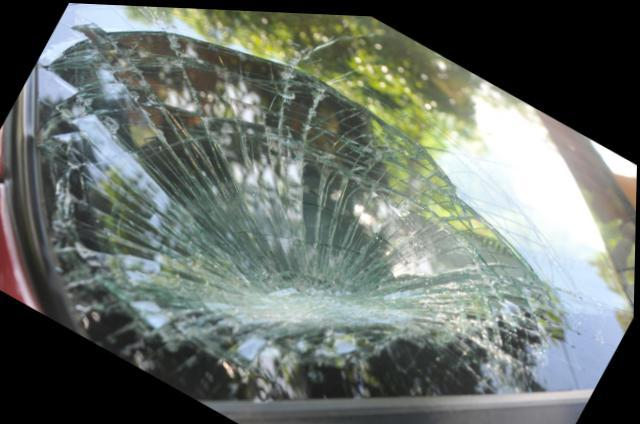glass shatter: (35, 2, 638, 400)
